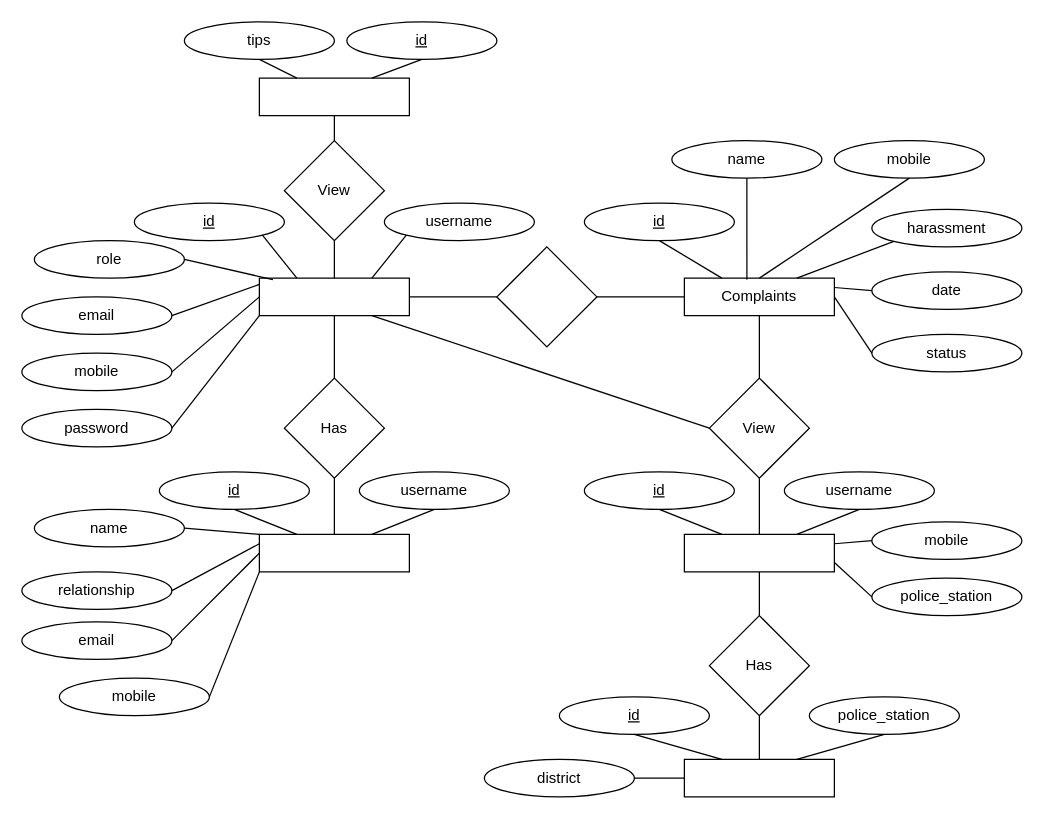
Image size: 1044x819. Some labels were removed from this diagram. Here are the shapes that lost their labels. From the top down, the centre of each, then its label:
(333,96): Safety Tips
(333,296): Users
(546,296): Create
(333,552): Guardians
(758,552): Police Users
(758,777): Police Stations
